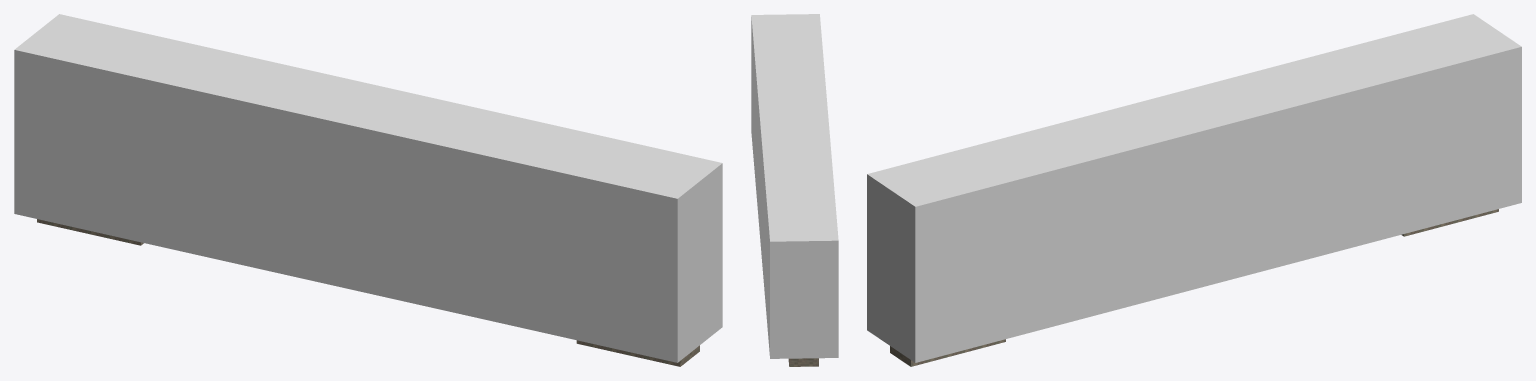
File: kettenbruecke.glb
3 renders of one model, left to right at view 1: azimuth 30°, elevation 25°; view 2: azimuth 150°, elevation 25°; view 3: azimuth 270°, elevation 25°, orthographic. The views are drawn at different scales.
Visible parts, largest first — view 1: Hide_bridge, PortalSued_mesh; view 2: Hide_bridge, PortalNord_mesh; view 3: Hide_bridge.
Boxes of the visible parts, <box> form: Hide_bridge: <box>14,14,722,362</box>; PortalSued_mesh: <box>576,340,699,366</box>; Hide_bridge: <box>751,14,838,358</box>; PortalNord_mesh: <box>788,358,818,366</box>; Hide_bridge: <box>867,14,1521,362</box>.
Bounding box in the file's own units: 106 × 44 × 152.
Materials: 7 (5 with a texture image).
